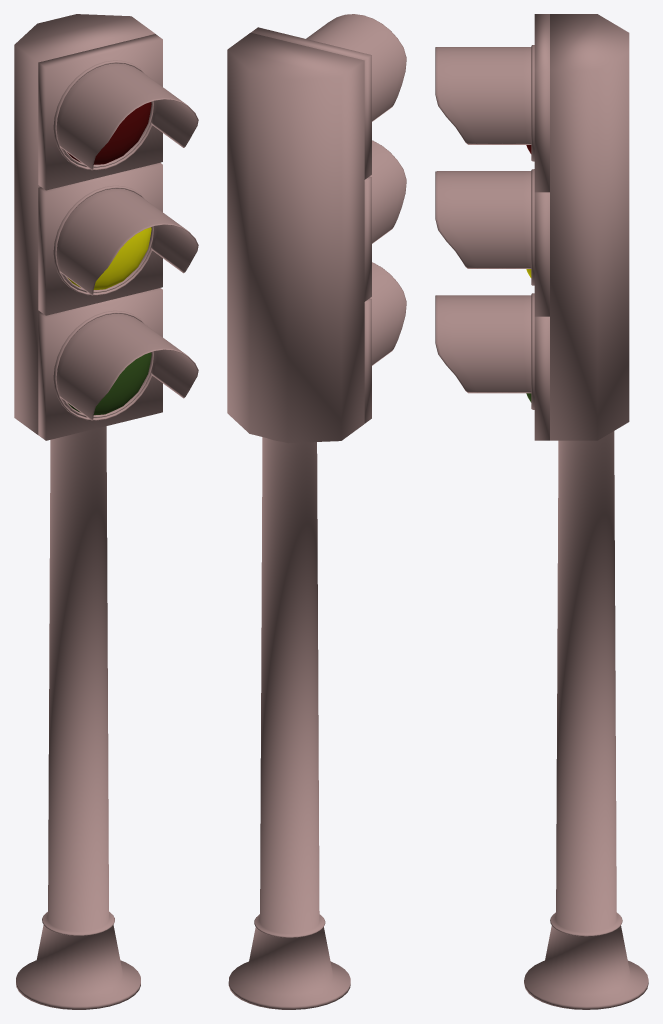
The model's file is traffic_light_yellow 1.fbx.
3 renders of one model, left to right at view 1: azimuth 30°, elevation 25°; view 2: azimuth 150°, elevation 25°; view 3: azimuth 270°, elevation 25°, orthographic. The views are drawn at different scales.
Visible parts, largest first — view 1: base_Cylinder, big_box_Cube, circle_cover_Sphere.002, lights_Sphere.008, circles_Sphere.009; view 2: big_box_Cube, base_Cylinder, circle_cover_Sphere.002; view 3: big_box_Cube, base_Cylinder, circle_cover_Sphere.002, circles_Sphere.009.
Part boxes in pixels (bbox=[...]): base_Cylinder: bbox=[16, 426, 140, 1009]; big_box_Cube: bbox=[14, 14, 162, 440]; circle_cover_Sphere.002: bbox=[56, 63, 198, 420]; lights_Sphere.008: bbox=[67, 102, 151, 415]; circles_Sphere.009: bbox=[53, 60, 153, 420]; big_box_Cube: bbox=[227, 27, 371, 443]; base_Cylinder: bbox=[228, 437, 350, 1009]; circle_cover_Sphere.002: bbox=[306, 14, 406, 365]; big_box_Cube: bbox=[534, 14, 629, 440]; base_Cylinder: bbox=[524, 431, 648, 1009]; circle_cover_Sphere.002: bbox=[435, 47, 531, 393]; circles_Sphere.009: bbox=[531, 45, 534, 409].
Bounding box in the file's own units: 42.65 × 330 × 67.73.
